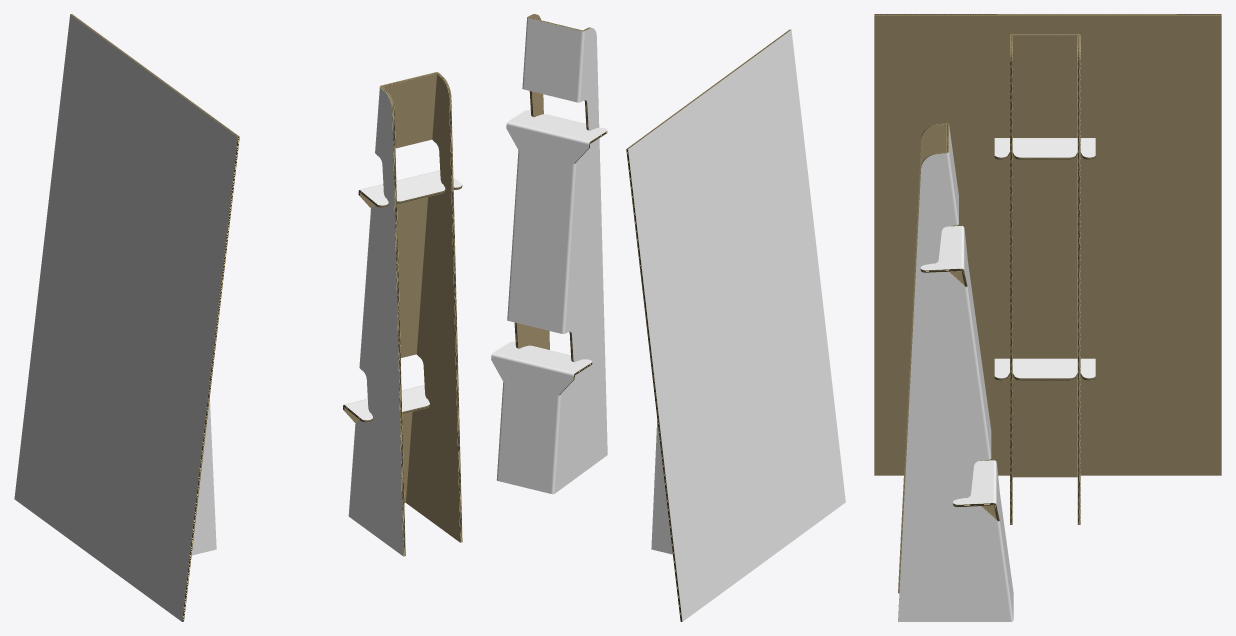
The model's file is TroquelCaballete.gltf.
3 views of the same model, side by side, from view 1: azimuth 30°, elevation 25°; view 2: azimuth 150°, elevation 25°; view 3: azimuth 270°, elevation 25° (orthographic). The views are drawn at different scales.
Visible parts, largest first — view 1: Plano.001, CABALLETE_01_ARD-node, CABALLETE_01_ARD-node.001; view 2: Plano.001, CABALLETE_01_ARD-node, CABALLETE_01_ARD-node.001; view 3: Plano.001, CABALLETE_01_ARD-node, CABALLETE_01_ARD-node.001.
Part boxes in pixels (<box>): Plano.001: <box>14,14,239,621</box>; CABALLETE_01_ARD-node: <box>343,72,462,556</box>; CABALLETE_01_ARD-node.001: <box>191,398,216,555</box>; Plano.001: <box>626,29,845,621</box>; CABALLETE_01_ARD-node: <box>491,14,607,494</box>; CABALLETE_01_ARD-node.001: <box>651,421,672,554</box>; Plano.001: <box>874,14,1221,475</box>; CABALLETE_01_ARD-node: <box>898,123,1013,621</box>; CABALLETE_01_ARD-node.001: <box>994,34,1095,524</box>.
Bounding box in the file's own units: 1.05 × 1.55 × 1.
4 materials, 1 textured.
